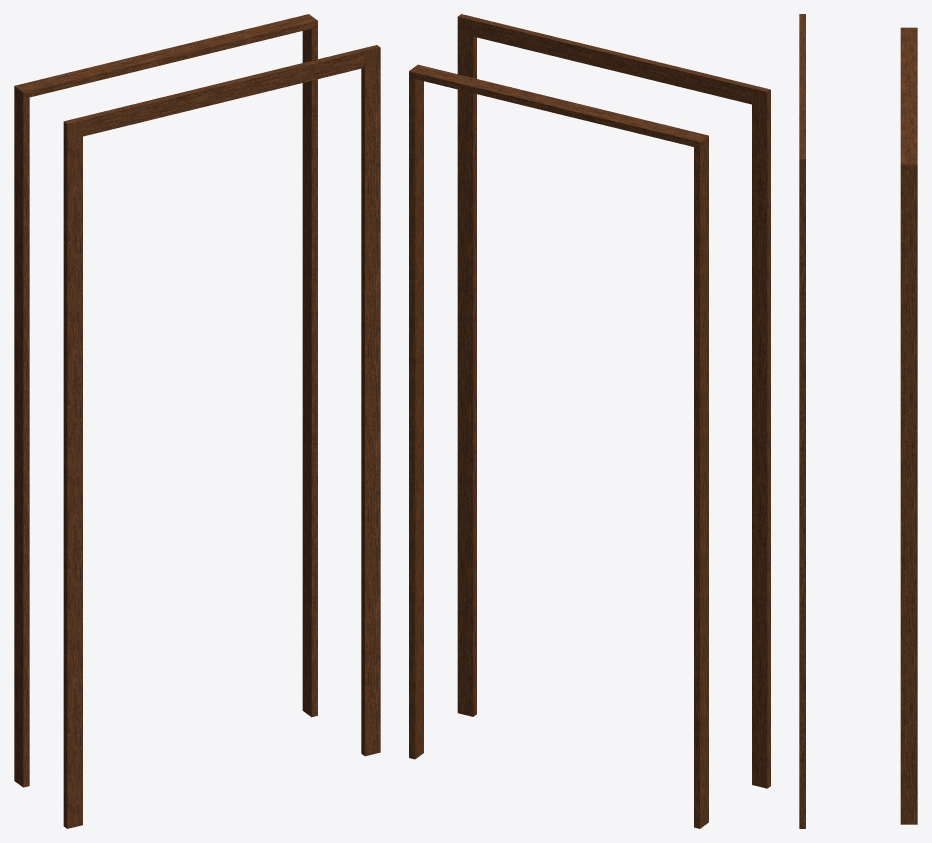
The model's file is frame_walnut.glb.
The picture shows the model from 3 angles, left to right: view 1: azimuth 30°, elevation 25°; view 2: azimuth 150°, elevation 25°; view 3: azimuth 270°, elevation 25°; orthographic projection. The views are drawn at different scales.
Parts seen in each view (by area): view 1: Lift_Frame_L, Lift_Frame_R, Jamb_L, Jamb_R, Lift_Frame_T, Jamb_Top; view 2: Lift_Frame_R, Lift_Frame_L, Jamb_L, Jamb_R, Lift_Frame_T, Jamb_Top; view 3: Jamb_R, Lift_Frame_R, Jamb_Top, Lift_Frame_T.
Boxes of the visible parts, left/top/right/bottom form: Lift_Frame_L: left=63, top=118, right=82, bottom=828; Lift_Frame_R: left=361, top=45, right=380, bottom=756; Jamb_L: left=14, top=92, right=29, bottom=787; Jamb_R: left=302, top=27, right=317, bottom=717; Lift_Frame_T: left=64, top=45, right=380, bottom=139; Jamb_Top: left=14, top=14, right=317, bottom=98; Lift_Frame_R: left=457, top=14, right=476, bottom=716; Lift_Frame_L: left=752, top=86, right=770, bottom=788; Jamb_L: left=694, top=142, right=708, bottom=828; Jamb_R: left=409, top=77, right=423, bottom=759; Lift_Frame_T: left=457, top=14, right=770, bottom=108; Jamb_Top: left=409, top=64, right=708, bottom=148; Jamb_R: left=900, top=170, right=917, bottom=824; Lift_Frame_R: left=799, top=152, right=805, bottom=828; Jamb_Top: left=900, top=27, right=917, bottom=170; Lift_Frame_T: left=799, top=21, right=805, bottom=174.
Size of the model in its own units: 1 by 2.15 by 0.345.
Materials: 1 (1 with a texture image).
